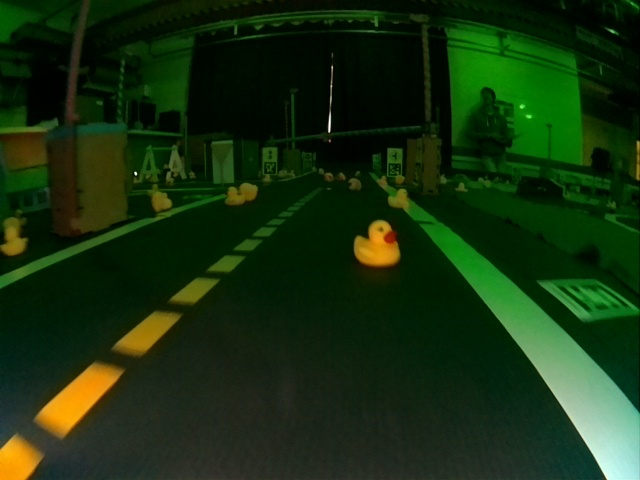Duckie: (354, 223, 398, 264), (5, 227, 27, 257), (151, 193, 172, 211), (388, 189, 408, 207), (226, 188, 242, 203), (241, 183, 256, 196), (350, 179, 360, 189)
QR code: (543, 279, 639, 321), (388, 163, 402, 176), (264, 161, 277, 174)
Signal sign: (264, 148, 276, 160)
